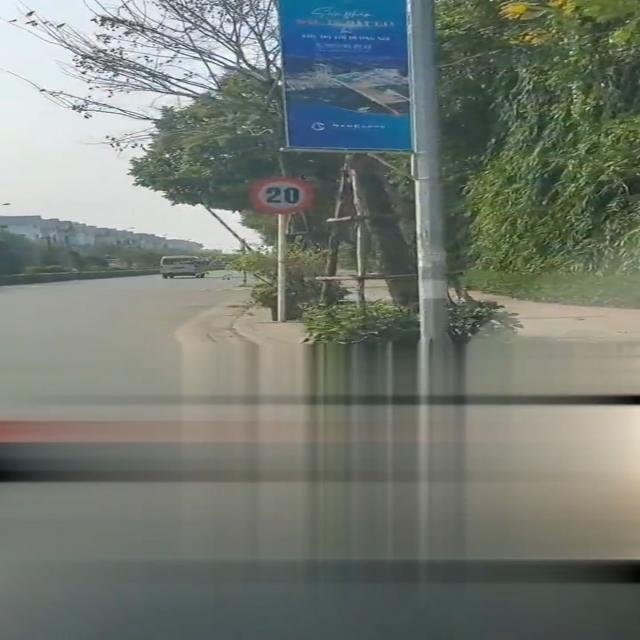127-toc-do-toi-da-20: (248, 176, 316, 216)
